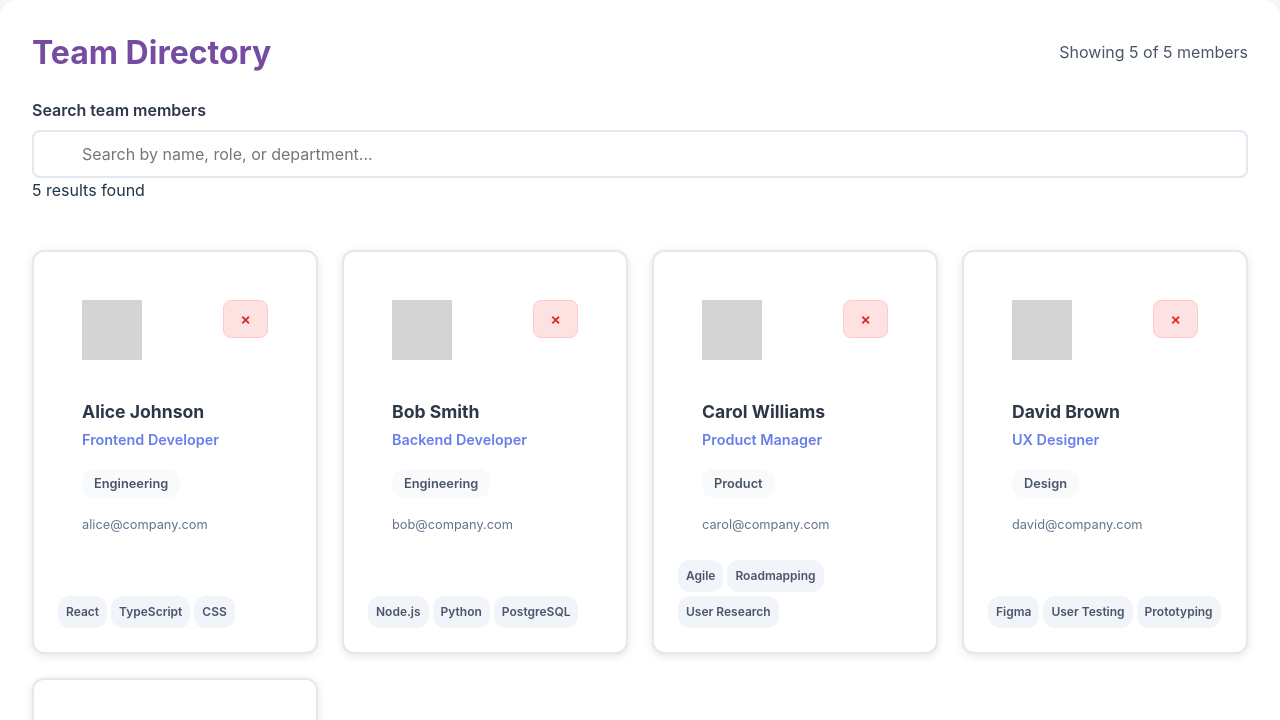
Test case: TeamDirectory Component › Search Functionality › filters members by name
Expected: the heading "Alice Johnson" is shown, [82,401,204,422]
Type "Alice" into the search field with placeholder "Search by name, role, or department..." at (640, 154), box [32,130,1248,178]
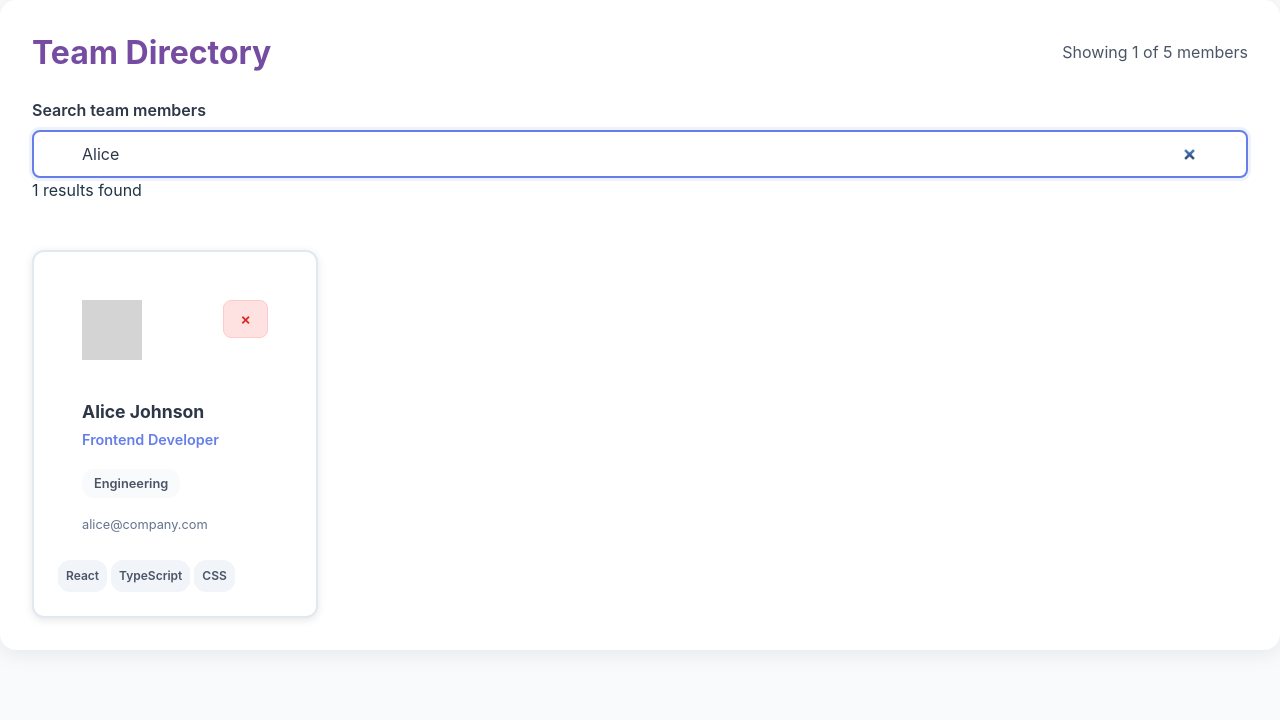
Expected: the heading "Alice Johnson" is shown, [82,401,204,422]
Result: the button "Bob Smith" is gone
